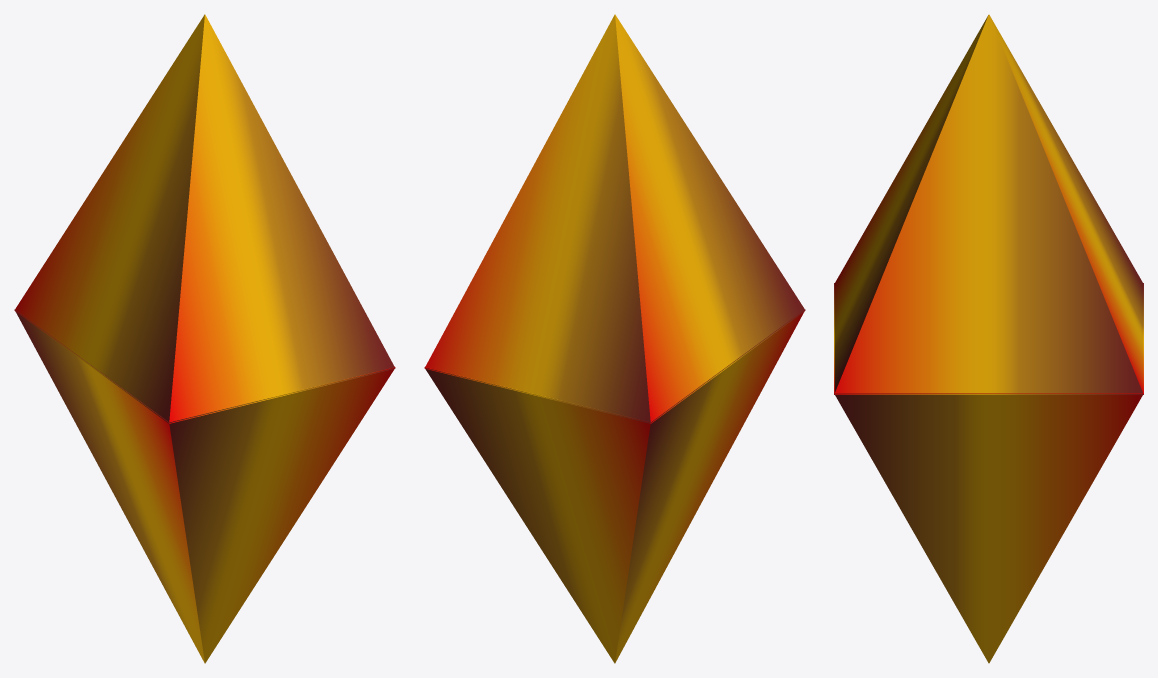
File: funken.fbx
3 views of the same model, side by side, from view 1: azimuth 30°, elevation 25°; view 2: azimuth 150°, elevation 25°; view 3: azimuth 270°, elevation 25° (orthographic).
Parts seen in each view (by area): view 1: funken_1; view 2: funken_1; view 3: funken_1.
Part boxes in pixels (bbox=[...]): funken_1: bbox=[14, 14, 395, 663]; funken_1: bbox=[424, 14, 805, 663]; funken_1: bbox=[834, 14, 1143, 663].
Bounding box in the file's own units: 32.66 × 89.56 × 38.67.
